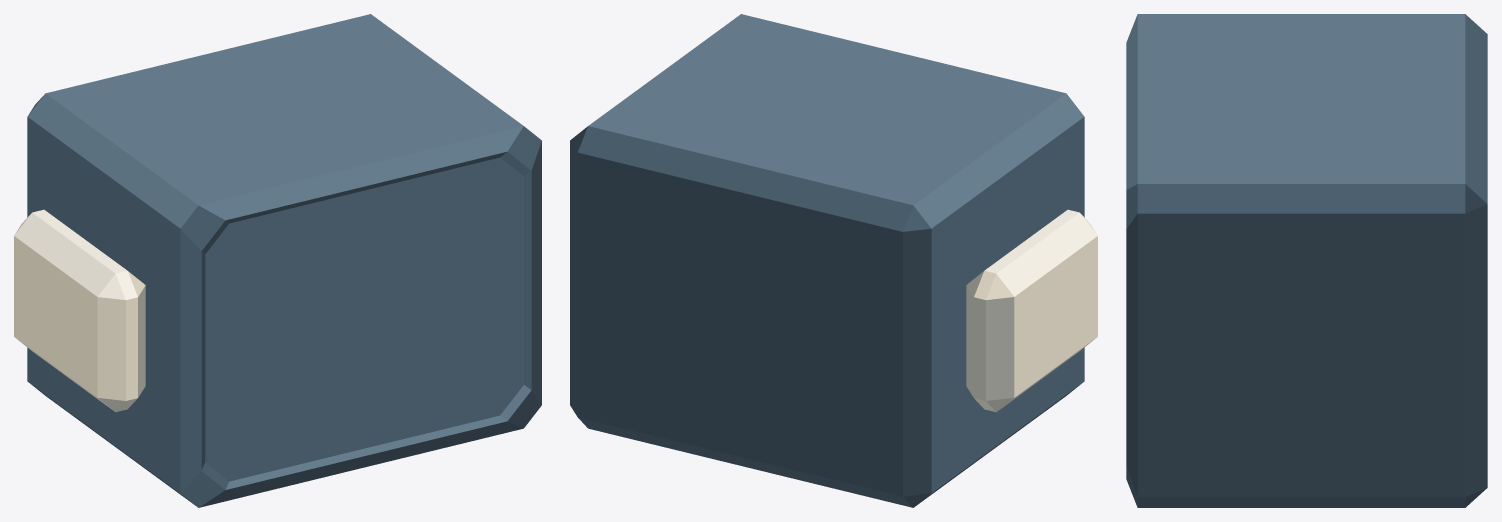
Rendered from Laser_Left.gltf.
The picture shows the model from 3 angles, left to right: view 1: azimuth 30°, elevation 25°; view 2: azimuth 150°, elevation 25°; view 3: azimuth 270°, elevation 25°; orthographic projection. The views are drawn at different scales.
Visible parts, largest first — view 1: Laser_Left_baked; view 2: Laser_Left_baked; view 3: Laser_Left_baked.
Boxes of the visible parts, <box> form: Laser_Left_baked: <box>14,14,541,507</box>; Laser_Left_baked: <box>570,14,1097,507</box>; Laser_Left_baked: <box>1126,14,1487,507</box>.
Bounding box in the file's own units: 0.68 × 0.48 × 0.4852.
